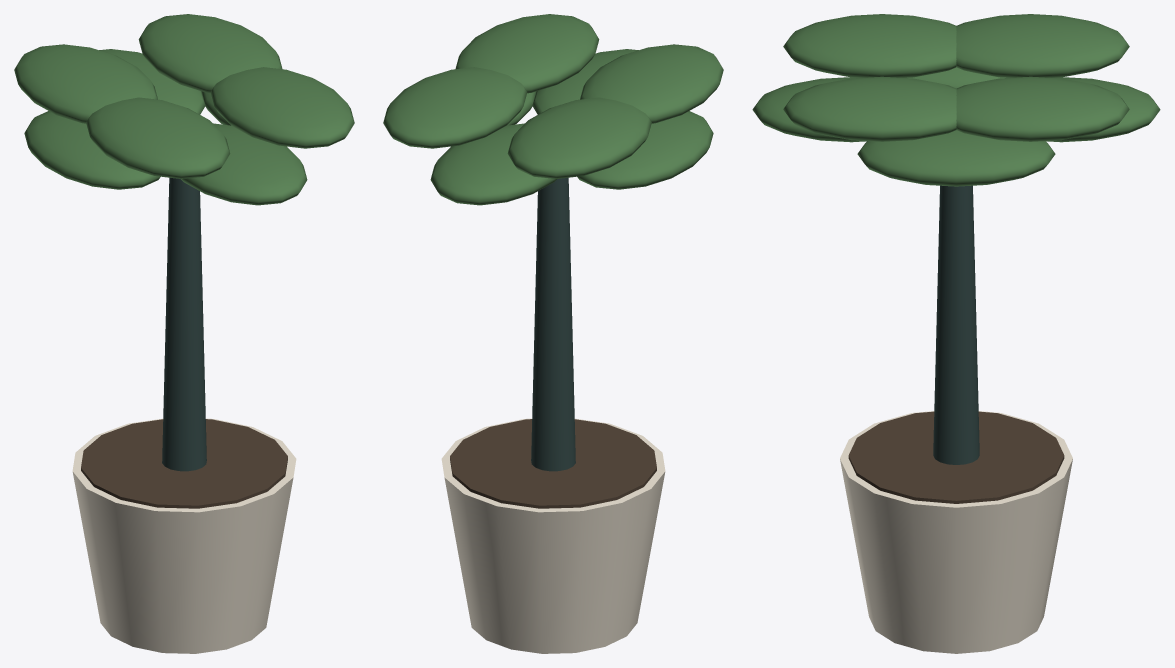
3 renders of one model, left to right at view 1: azimuth 30°, elevation 25°; view 2: azimuth 150°, elevation 25°; view 3: azimuth 270°, elevation 25°, orthographic. The views are drawn at different scales.
Parts seen in each view (by area): view 1: pot, soil, trunk, leaf1, leaf7, leaf5, leaf3, leaf0, leaf6, leaf4; view 2: pot, soil, trunk, leaf3, leaf5, leaf7, leaf1, leaf4, leaf6, leaf0; view 3: pot, soil, trunk, leaf1, leaf3, leaf5, leaf7, leaf2, leaf0, leaf4, leaf6.
Part boxes in pixels (<box>): pot: <box>72,418,296,653</box>; soil: <box>81,419,287,508</box>; trunk: <box>162,177,206,471</box>; leaf1: <box>210,67,354,148</box>; leaf7: <box>86,97,230,178</box>; leaf5: <box>14,44,157,123</box>; leaf3: <box>138,14,282,93</box>; leaf0: <box>181,123,307,205</box>; leaf6: <box>24,111,160,189</box>; leaf4: <box>99,49,205,114</box>; pot: <box>441,418,665,653</box>; soil: <box>450,419,656,508</box>; trunk: <box>531,177,575,471</box>; leaf3: <box>383,67,527,148</box>; leaf5: <box>507,97,651,178</box>; leaf7: <box>580,44,723,123</box>; leaf1: <box>455,14,599,93</box>; leaf4: <box>430,123,556,205</box>; leaf6: <box>577,111,713,189</box>; leaf0: <box>532,49,638,114</box>; pot: <box>840,411,1072,653</box>; soil: <box>848,411,1064,503</box>; trunk: <box>933,185,979,464</box>; leaf1: <box>783,76,956,141</box>; leaf3: <box>956,76,1129,141</box>; leaf5: <box>956,14,1129,77</box>; leaf7: <box>783,14,956,77</box>; leaf2: <box>857,130,1055,186</box>; leaf0: <box>752,77,866,142</box>; leaf4: <box>1046,77,1160,142</box>; leaf6: <box>907,67,1005,88</box>.
Bounding box in the file's own units: 0.581 × 1.05 × 0.7.
